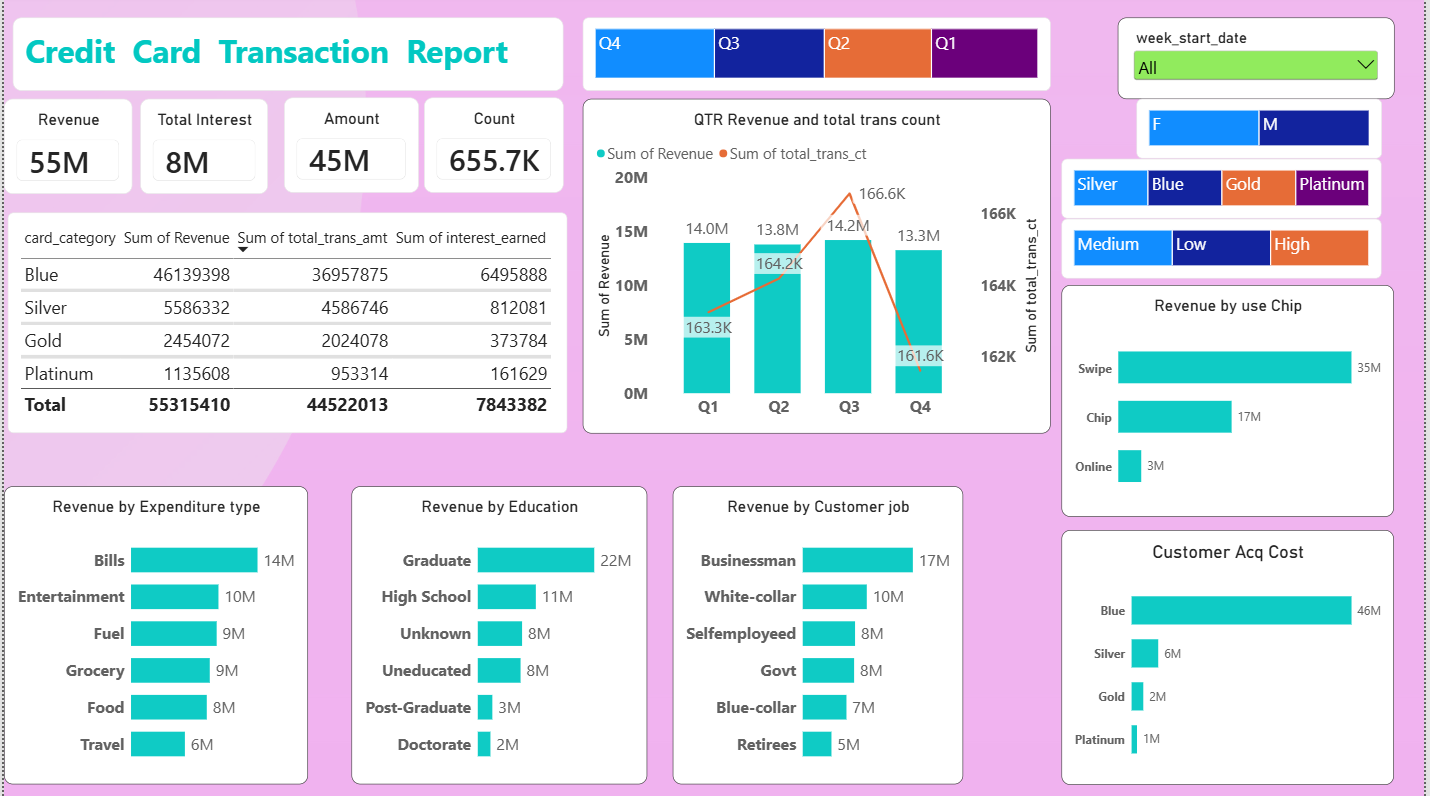

This screenshot's page, from the dashboard's own definition file:
{"tool":"powerbi","page":{"name":"CC Transaction","canvas":[1920,1080],"ordinal":1},"visuals":[{"type":"textbox","box":[11,23.8,744.7,99],"z":0},{"type":"lineStackedColumnComboChart","title":"QTR Revenue and total trans count","fields":{"Category":["public cc_detail.qtr"],"Y":["Sum(public cc_detail.Revenue)"],"Y2":["Sum(public cc_detail.total_trans_ct)"]},"box":[783.2,133.9,632.8,453.1],"z":1000},{"type":"barChart","title":"Revenue by Expenditure type","fields":{"Y":["Sum(public cc_detail.Revenue)"],"Category":["public cc_detail.exp_type"]},"box":[0,658.5,410.9,403.5],"z":2000},{"type":"barChart","title":"Revenue by Education","fields":{"Y":["Sum(public cc_detail.Revenue)"],"Category":["public cust_detail.education_level"]},"box":[469.6,658.5,399.9,403.5],"z":3000},{"type":"barChart","title":" Revenue by Customer job","fields":{"Y":["Sum(public cc_detail.Revenue)"],"Category":["public cust_detail.customer_job"]},"box":[904.3,658.5,392.5,403.5],"z":4000},{"type":"barChart","title":"Customer Acq Cost","fields":{"Category":["public cc_detail.card_category"],"Y":["Sum(public cc_detail.Revenue)"]},"box":[1430.7,717.2,449.4,344.8],"z":5000},{"type":"barChart","title":"Revenue by use Chip","fields":{"Y":["Sum(public cc_detail.Revenue)"],"Category":["public cc_detail.use_chip"]},"box":[1430.7,385.2,449.4,313.7],"z":6000},{"type":"tableEx","fields":{"Values":["public cc_detail.card_category","Sum(public cc_detail.Revenue)","Sum(public cc_detail.total_trans_amt)","Sum(public cc_detail.interest_earned)"]},"box":[5.4,287.7,756.4,298.6],"z":7000},{"type":"cardVisual","title":"Revenue","fields":{"Data":["Sum(public cc_detail.Revenue)"]},"box":[0,133.9,173.7,128.5],"z":8000},{"type":"cardVisual","title":"Amount","fields":{"Data":["Sum(public cc_detail.total_trans_amt)"]},"box":[378.2,132.1,182,128.5],"z":9000},{"type":"cardVisual","title":"Total Interest","fields":{"Data":["Sum(public cc_detail.interest_earned)"]},"box":[184.6,133.9,173,128.5],"z":10000},{"type":"cardVisual","title":"Count","fields":{"Data":["Sum(public cc_detail.total_trans_ct)"]},"box":[568.2,132.1,189,128.5],"z":11000},{"type":"slicer","fields":{"Values":["public cc_detail.week_start_date"]},"box":[1505.9,23.8,374.2,110.1],"z":12000},{"type":"treemap","fields":{"Group":["public cc_detail.qtr"],"Values":["Avg(public cc_detail.client_num)"]},"box":[783.2,23.8,632.8,99],"z":13000},{"type":"treemap","fields":{"Group":["public cust_detail.gender"],"Values":["Avg(public cc_detail.client_num)"]},"box":[1531.6,133.9,332,80.7],"z":14000},{"type":"treemap","fields":{"Group":["public cc_detail.card_category"],"Values":["Avg(public cc_detail.client_num)"]},"box":[1430.7,214.6,432.9,80.7],"z":15000},{"type":"treemap","fields":{"Group":["public cust_detail.IncomeGroup"],"Values":["Avg(public cc_detail.client_num)"]},"box":[1430.7,295.3,432.9,80.7],"z":16000}]}

Visuals, with their boxes in screenshot pixels (x1, y1, x2, y2), scaled from the page's 1920x1080 canvas onto the 1430x796 screenshot:
textbox: BBox(8, 18, 563, 91)
"QTR Revenue and total trans count" lineStackedColumnComboChart: BBox(583, 99, 1055, 433)
"Revenue by Expenditure type" barChart: BBox(0, 485, 306, 783)
"Revenue by Education" barChart: BBox(350, 485, 648, 783)
" Revenue by Customer job" barChart: BBox(674, 485, 966, 783)
"Customer Acq Cost" barChart: BBox(1066, 529, 1400, 783)
"Revenue by use Chip" barChart: BBox(1066, 284, 1400, 515)
tableEx - public cc_detail.card_category x Sum(public cc_detail.Revenue): BBox(4, 212, 567, 432)
"Revenue" cardVisual: BBox(0, 99, 129, 193)
"Amount" cardVisual: BBox(282, 97, 417, 192)
"Total Interest" cardVisual: BBox(137, 99, 266, 193)
"Count" cardVisual: BBox(423, 97, 564, 192)
slicer - public cc_detail.week_start_date: BBox(1122, 18, 1400, 99)
treemap - public cc_detail.qtr x Avg(public cc_detail.client_num): BBox(583, 18, 1055, 91)
treemap - public cust_detail.gender x Avg(public cc_detail.client_num): BBox(1141, 99, 1388, 158)
treemap - public cc_detail.card_category x Avg(public cc_detail.client_num): BBox(1066, 158, 1388, 218)
treemap - public cust_detail.IncomeGroup x Avg(public cc_detail.client_num): BBox(1066, 218, 1388, 277)
